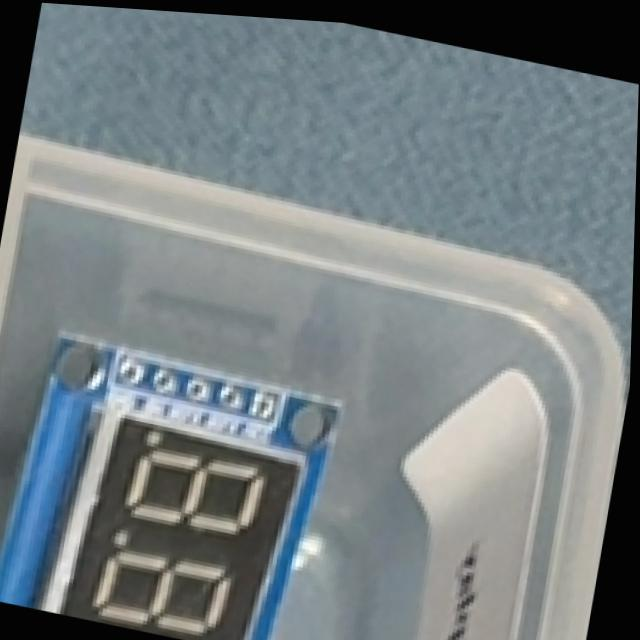Digit Display: (0, 325, 345, 640)
